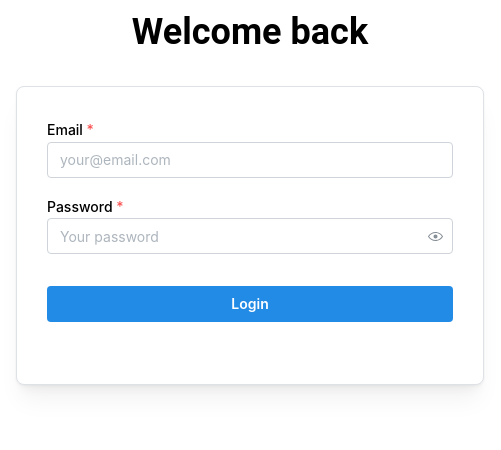
Scenario: <LoginForm/> › Handling submit test › should not submit and it will show errors if email pattern is not correct
This screenshot has width=501, height=450.
In the field labelled "Email": coordinates (250, 160) [47,142,453,178], type "invalid"
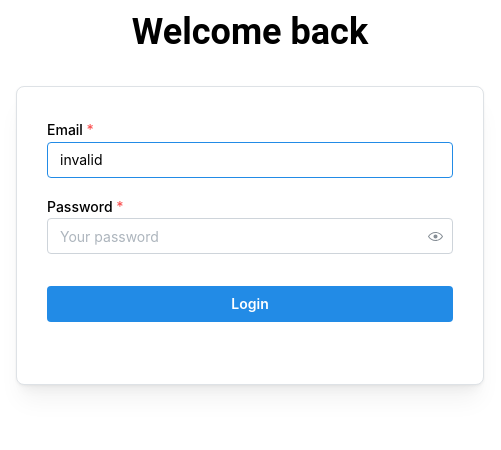
Click the button "Login": coordinates (250, 304) [47,286,453,322]
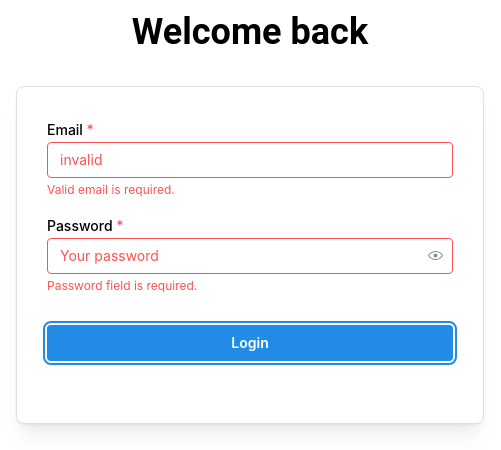
expect the text "Valid email is required." is shown: met, box [47,182,175,197]
